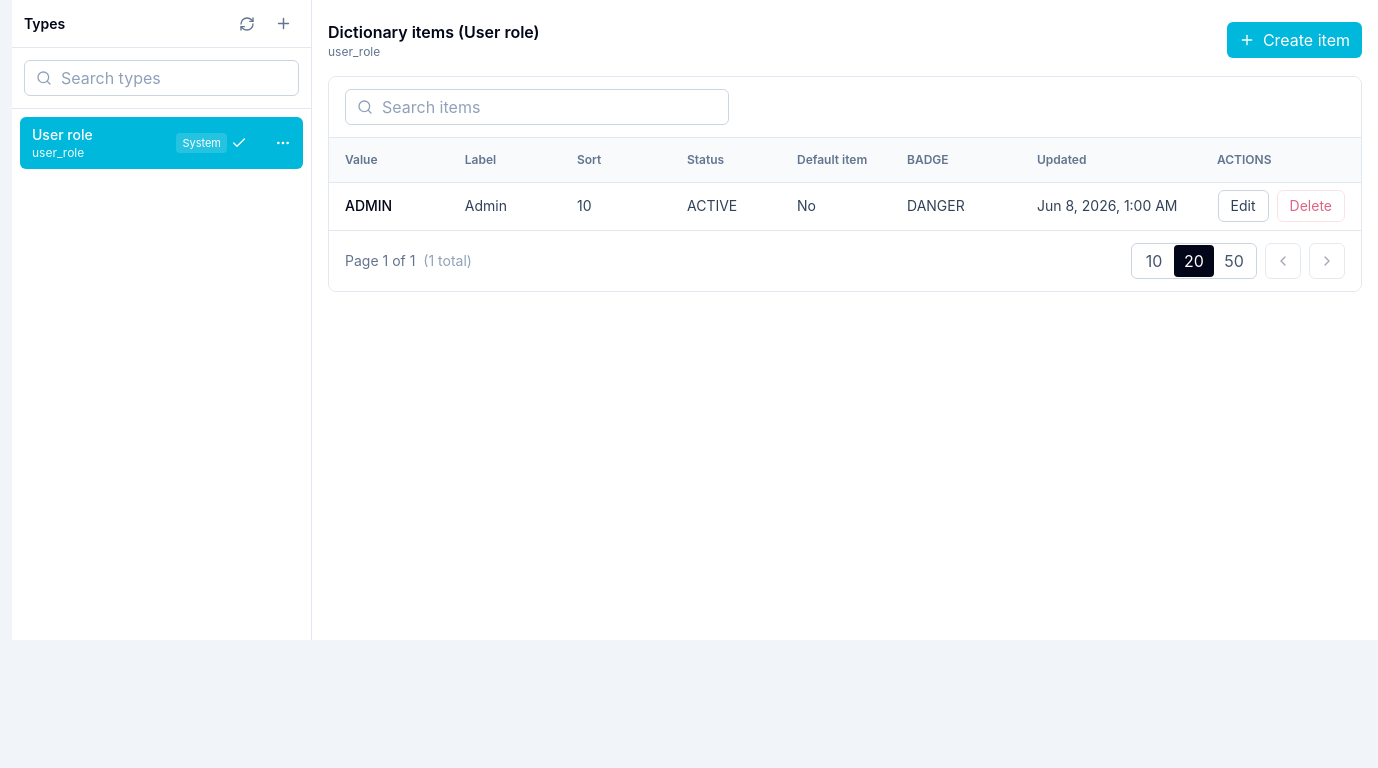
Test: DictionariesPage › protects system type and item delete actions
This screenshot has width=1378, height=768.
Expected: the text "ADMIN" is shown, [345,197,392,214]
Right-click the button with aria-label "Select user_role".
right_click(140, 143)  # box [20,117,259,169]
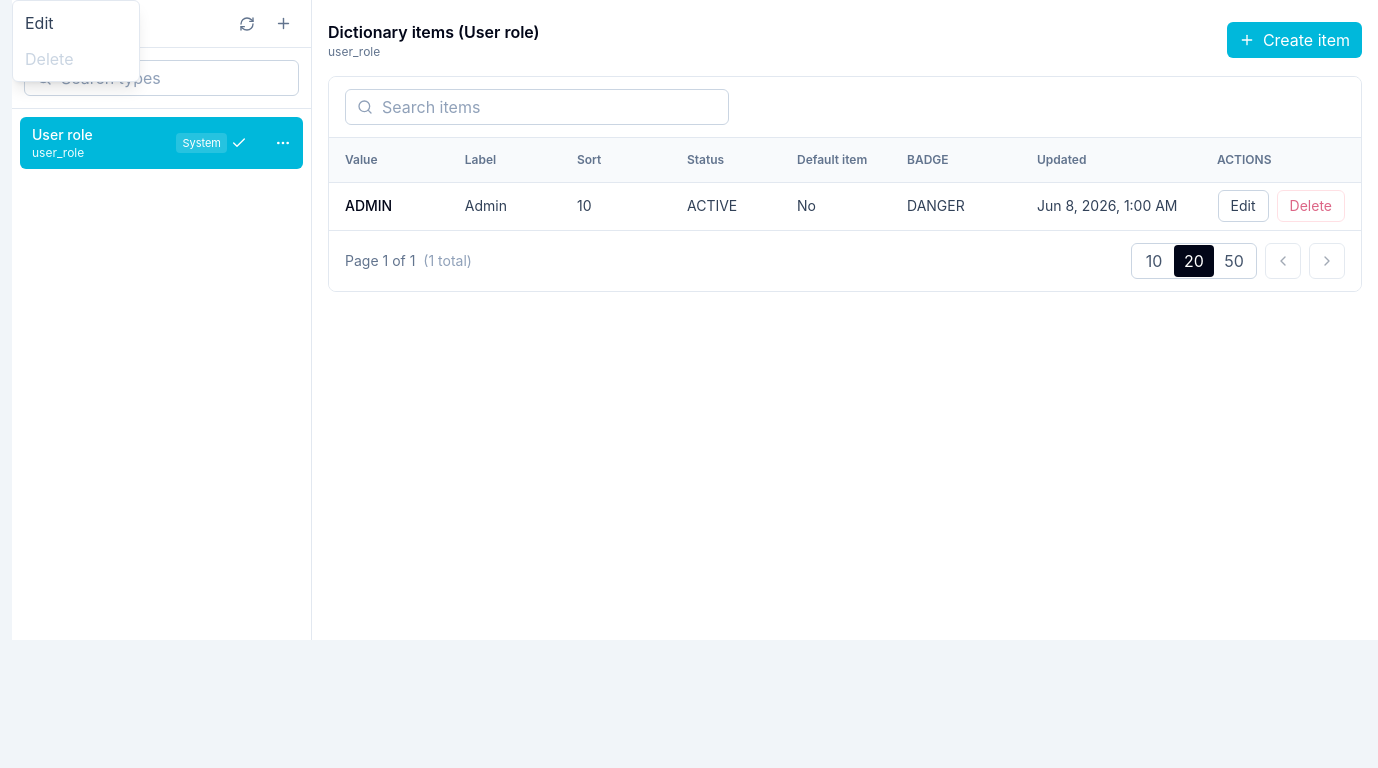
Expected: the button "Delete" is disabled, [1277,190,1345,222]
Result: the menu item "Delete" is disabled at [13,41,139,77]
